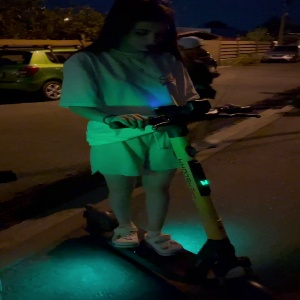human on a scooter: (56, 1, 269, 297)
